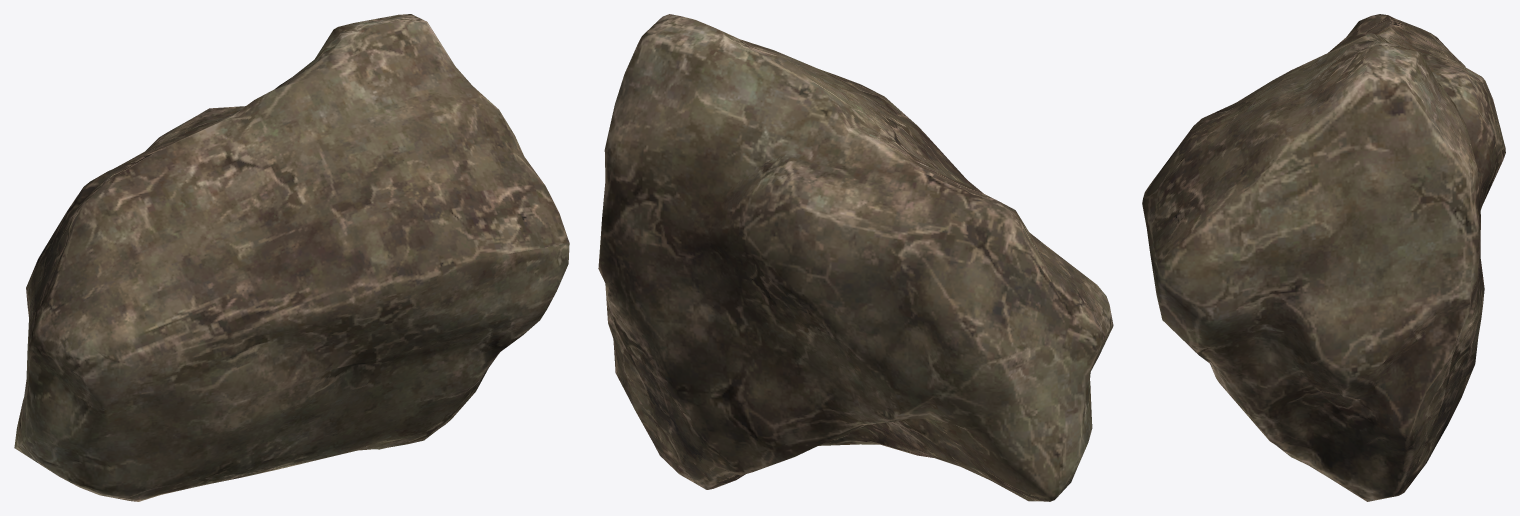
File: Rock5.fbx
The picture shows the model from 3 angles, left to right: view 1: azimuth 30°, elevation 25°; view 2: azimuth 150°, elevation 25°; view 3: azimuth 270°, elevation 25°; orthographic projection. The views are drawn at different scales.
Parts seen in each view (by area): view 1: SM_cmn_mount_Rock_01a; view 2: SM_cmn_mount_Rock_01a; view 3: SM_cmn_mount_Rock_01a.
Part boxes in pixels (x1,y1,x2,y2): SM_cmn_mount_Rock_01a: [14, 14, 569, 501]; SM_cmn_mount_Rock_01a: [598, 14, 1113, 501]; SM_cmn_mount_Rock_01a: [1142, 14, 1505, 501].
Size of the model in its own units: 533 by 474 by 350.
